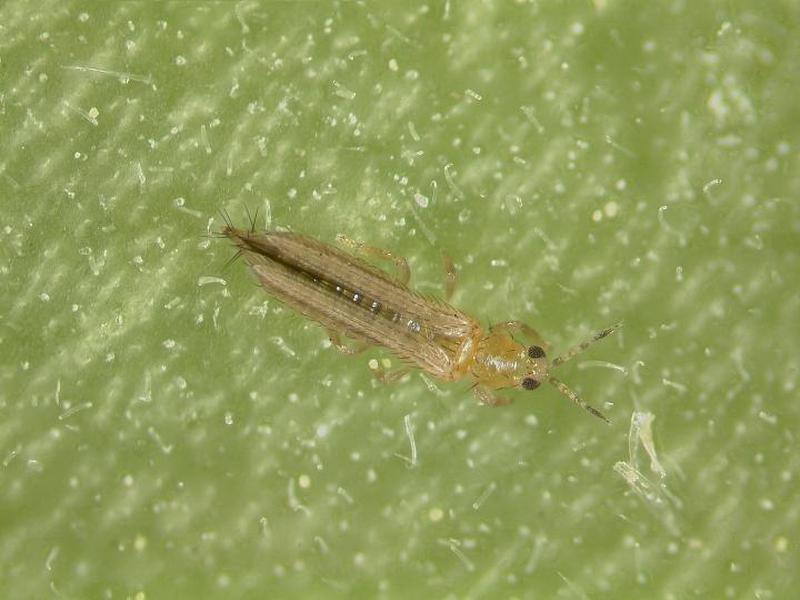Thrips: (211, 204, 636, 457)
